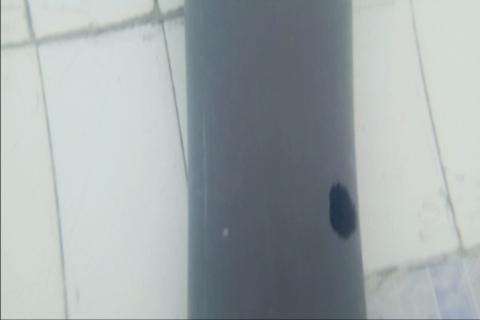kebocoran: (326, 180, 359, 241)
